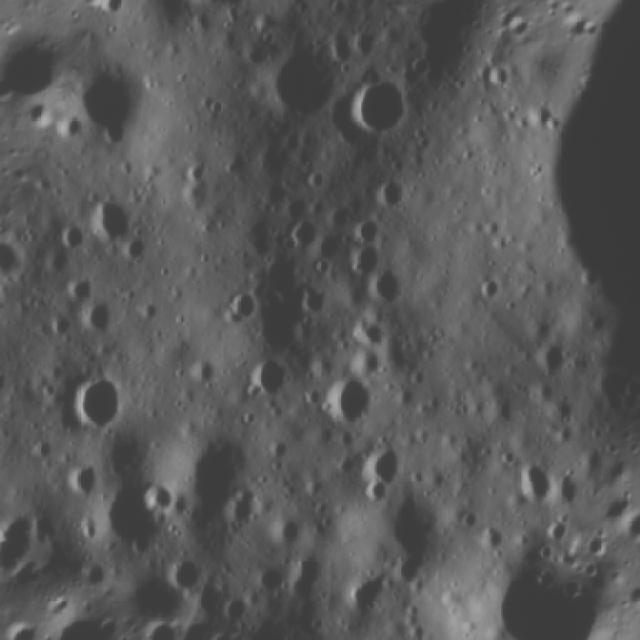crater: (60, 41, 168, 156), (257, 34, 349, 126), (342, 68, 424, 150), (66, 364, 132, 439), (148, 0, 279, 32), (316, 364, 376, 428), (280, 538, 337, 602), (358, 438, 408, 504), (511, 444, 562, 508), (84, 188, 138, 242), (243, 352, 292, 408), (220, 273, 266, 327), (62, 455, 107, 502), (364, 262, 408, 308), (79, 295, 123, 339), (278, 212, 320, 258), (578, 303, 622, 346), (531, 336, 574, 378), (371, 171, 412, 214), (215, 588, 256, 628), (479, 56, 519, 93), (59, 270, 98, 307), (342, 25, 382, 60), (349, 212, 386, 248), (54, 219, 91, 252), (541, 512, 573, 550), (170, 557, 204, 591), (122, 230, 152, 268), (349, 245, 380, 280), (478, 272, 504, 306), (458, 501, 484, 534), (575, 266, 602, 292), (0, 359, 12, 398)
